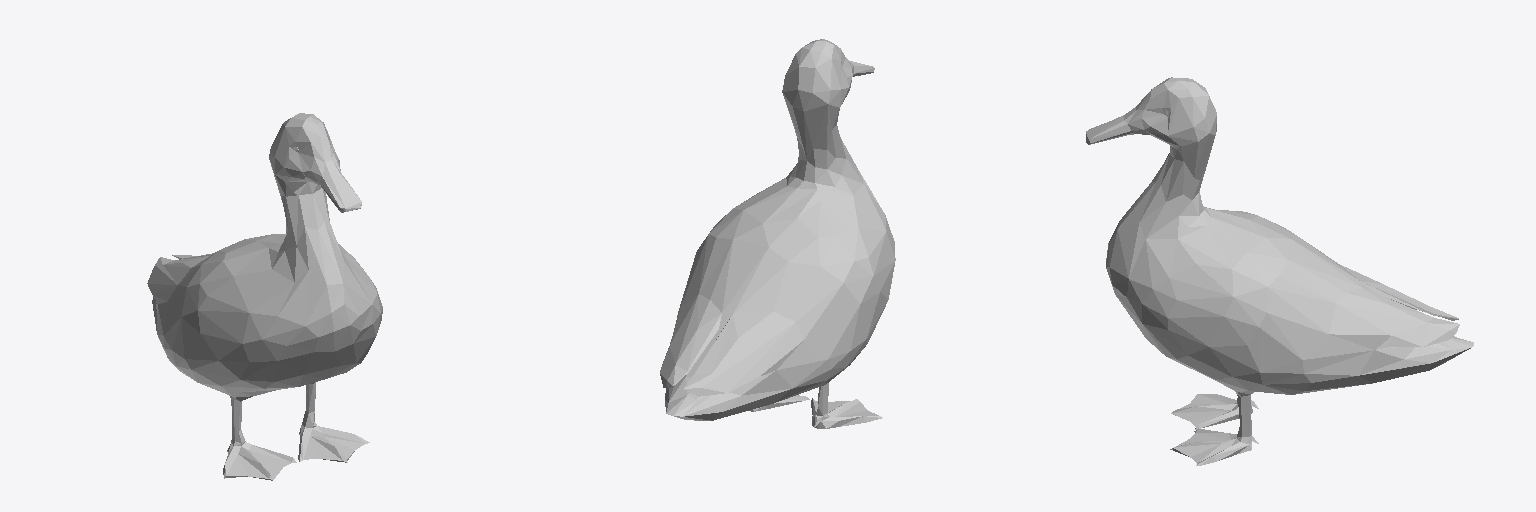
Rendered from duck.obj.
3 renders of one model, left to right at view 1: azimuth 30°, elevation 25°; view 2: azimuth 150°, elevation 25°; view 3: azimuth 270°, elevation 25°, orthographic.
Parts seen in each view (by area): view 1: duck; view 2: duck; view 3: duck.
Part boxes in pixels (left/top/right/bottom): duck: left=147, top=113, right=382, bottom=480; duck: left=660, top=39, right=895, bottom=428; duck: left=1086, top=77, right=1473, bottom=465.
Bounding box in the file's own units: 1.18 × 2.34 × 2.34.